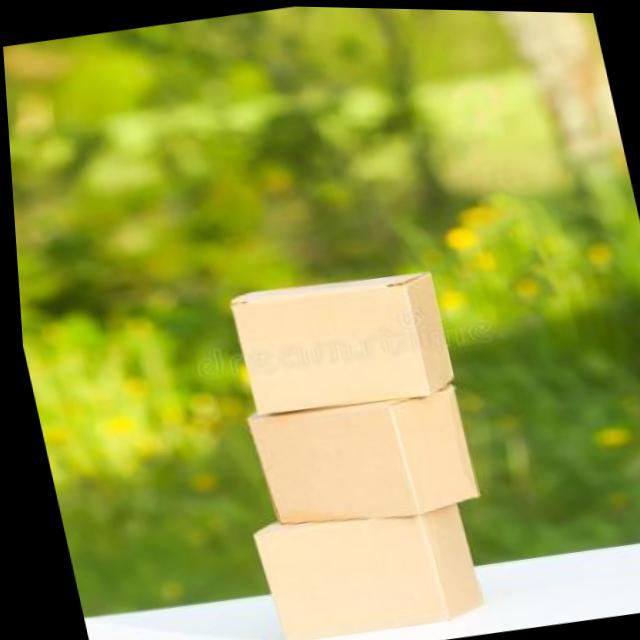box: (212, 240, 476, 440), (219, 373, 498, 550), (222, 481, 510, 640)
